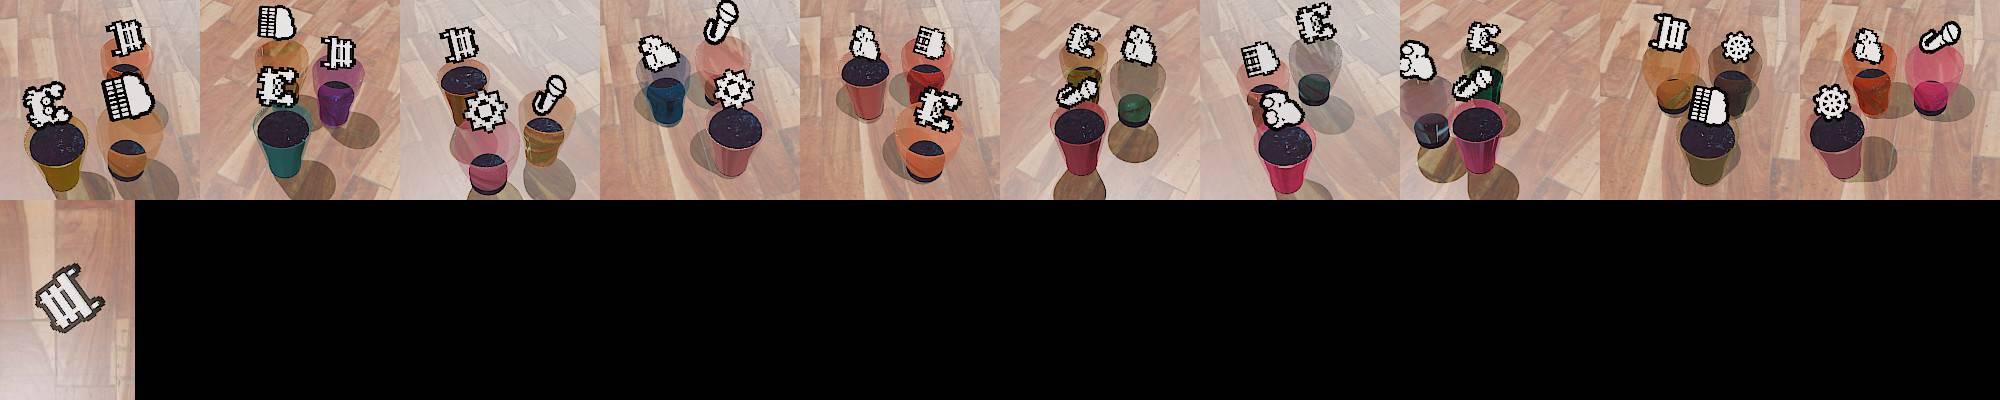icon: (32, 262, 104, 333), (100, 72, 155, 122), (912, 85, 962, 132), (462, 88, 510, 133), (1294, 1, 1339, 47), (24, 85, 72, 128), (710, 67, 757, 110), (255, 65, 299, 110), (1452, 65, 1501, 104), (1257, 88, 1304, 128), (105, 19, 148, 60), (1688, 84, 1730, 125), (638, 34, 682, 72), (1053, 75, 1100, 110), (439, 25, 480, 65), (1651, 12, 1691, 53), (703, 0, 739, 45), (1120, 24, 1157, 66), (1240, 40, 1279, 79), (533, 73, 568, 116), (257, 4, 297, 41), (1918, 20, 1961, 54), (1812, 83, 1850, 121), (1400, 39, 1434, 80), (320, 34, 357, 71), (912, 25, 949, 60), (1065, 21, 1099, 58), (1720, 30, 1757, 64), (1852, 27, 1884, 64), (1466, 21, 1501, 54), (848, 25, 879, 61), (56, 262, 82, 283)
